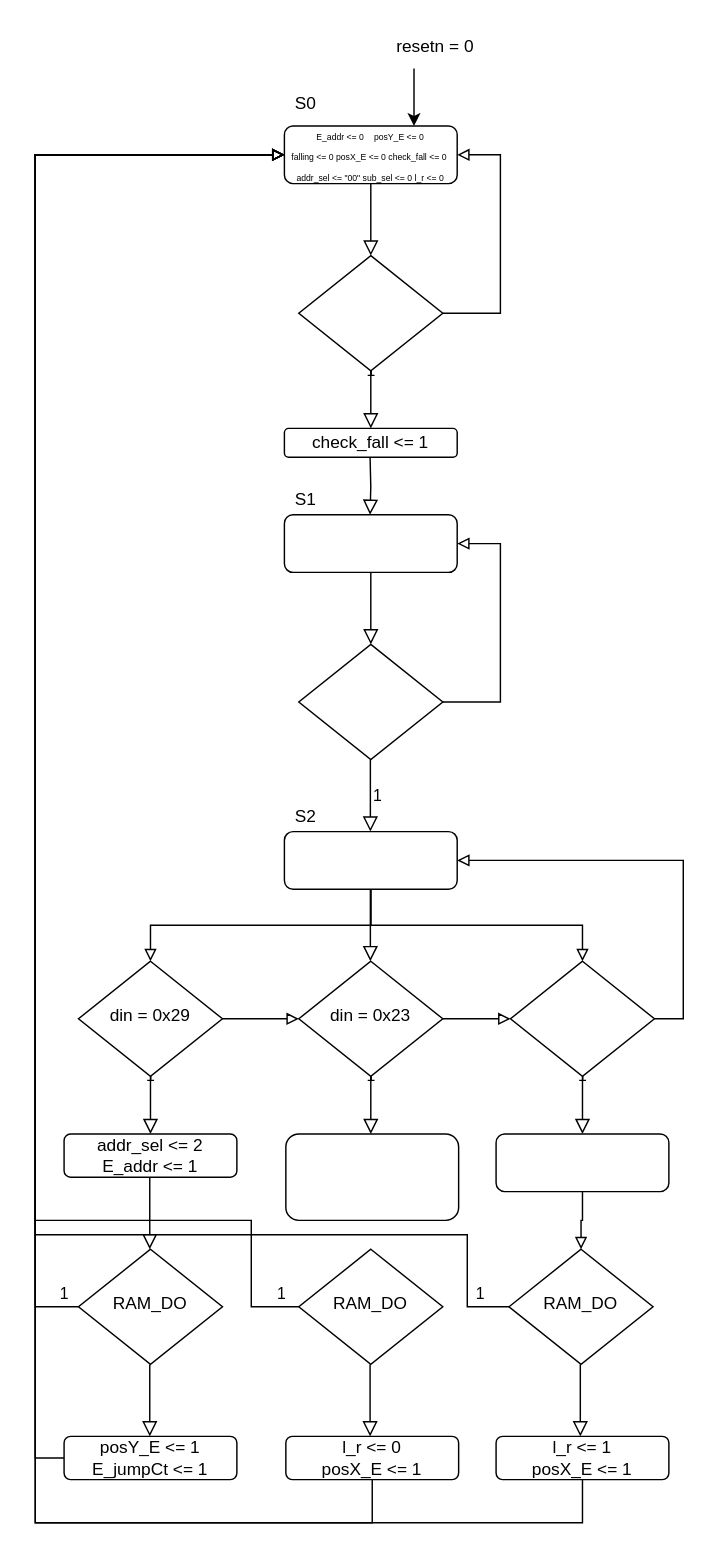
Image size: 720x1560. Some labels were removed from this diagram. Here are the shapes that lost their labels. From the top down, the box of each, then its label:
(297, 254, 443, 371): ps2_done
(297, 643, 443, 760): fall_done
(509, 960, 654, 1076): din = 0x1C
(284, 1133, 459, 1220): l_r <= 0 sub_sel <= 0 addr_sel <= 0 E_addr <= 1
(495, 1133, 669, 1192): l_r <= 1 addr_sel <= 1 E_addr <= 1
